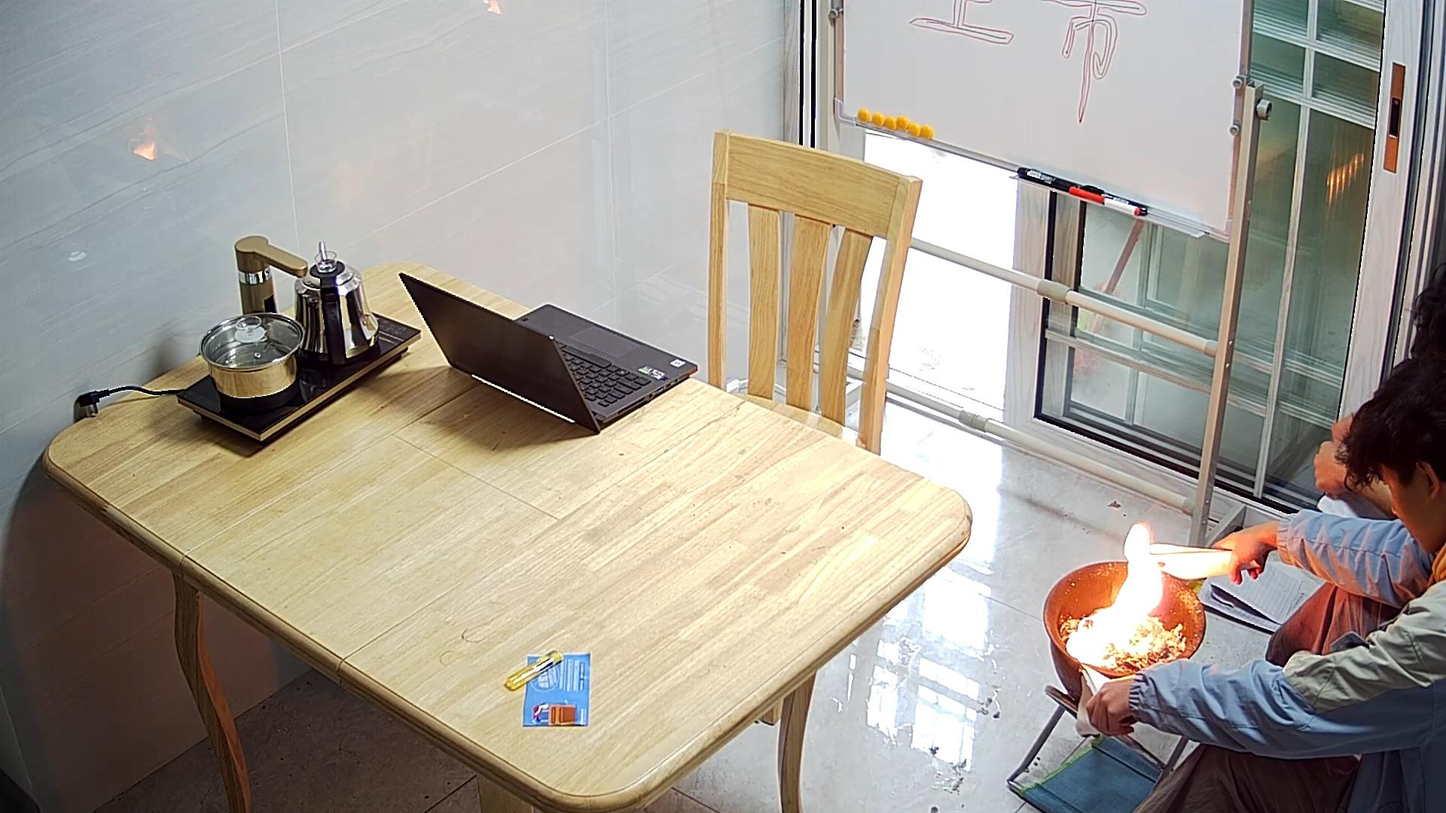fire: (1067, 522, 1164, 669)
